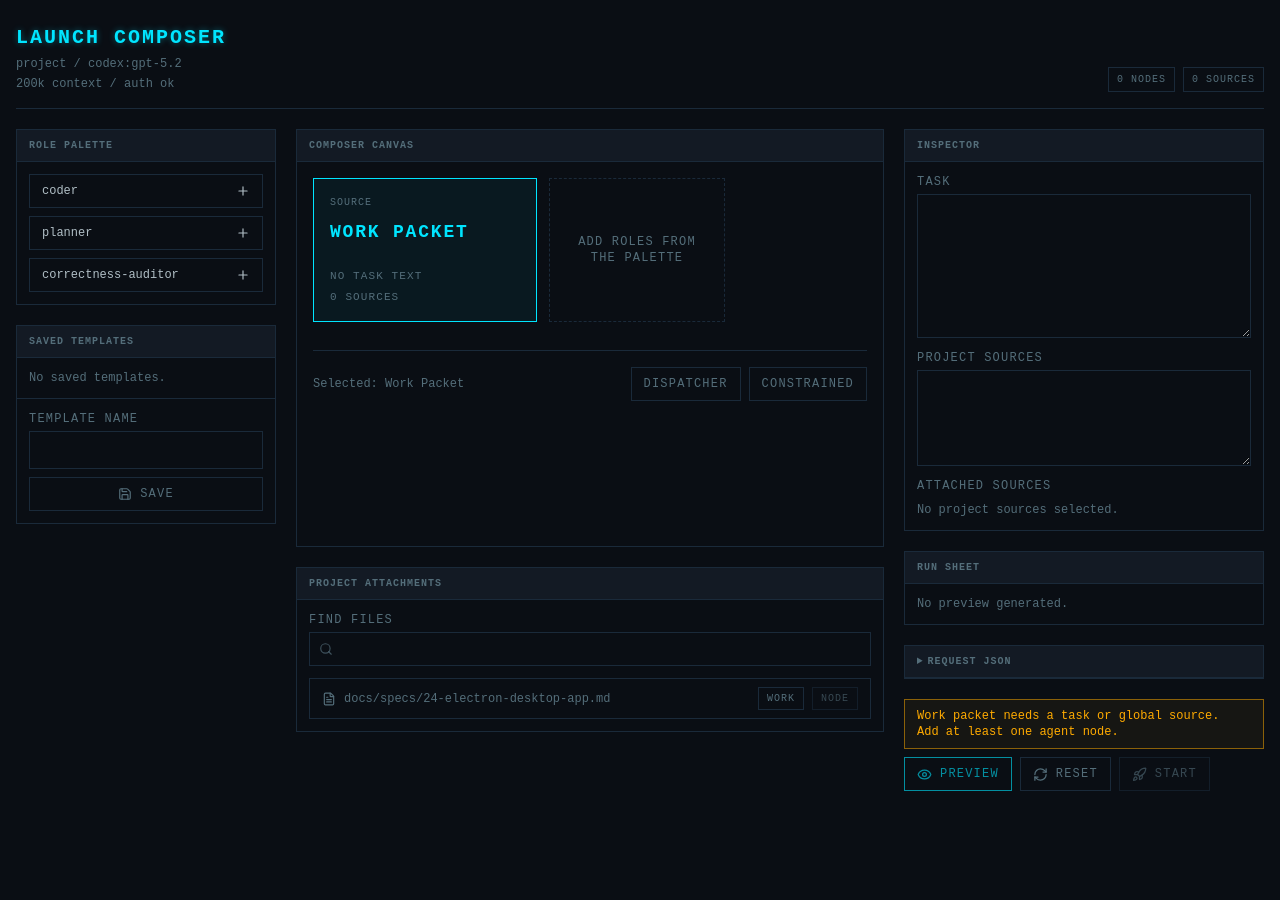
Scenario: LaunchPage › builds a one-step launch preview from the composer
Type "Ship launch workbench preview" into the text box labelled "Task" at [1084, 266], box [917,194,1251,338]
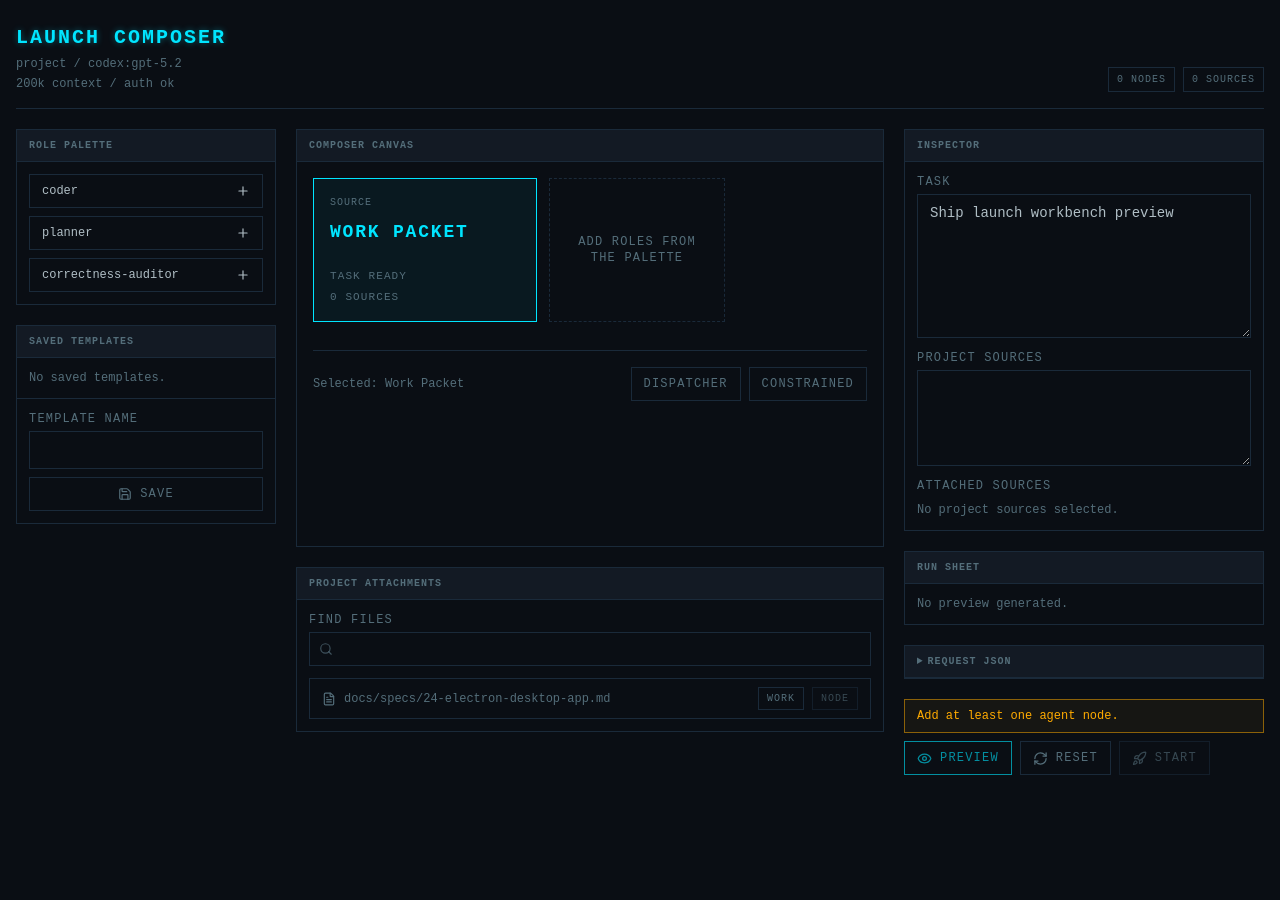
Click the button "coder" at [146, 191], box [29,174,263,208]
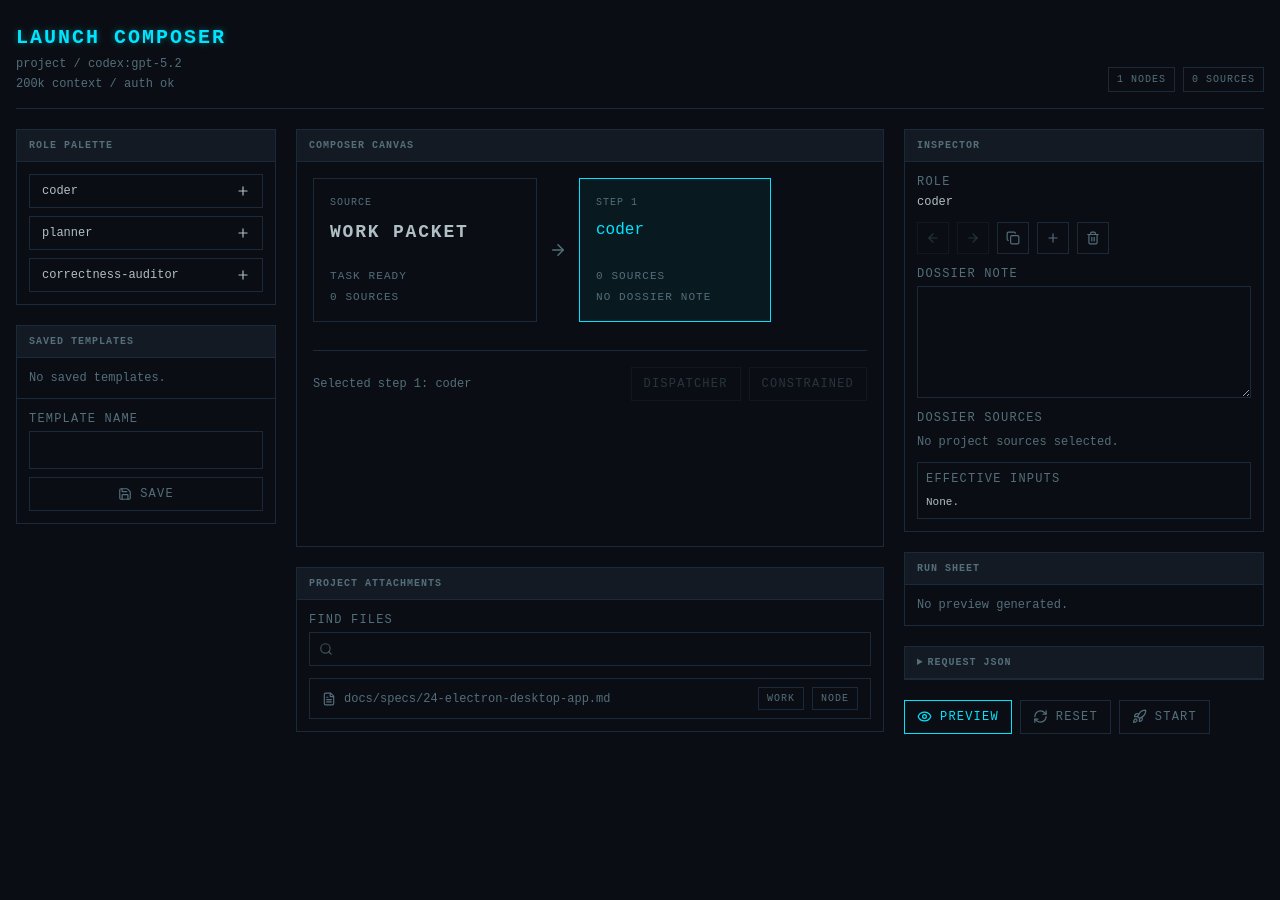
Click the button "Preview" at [958, 717], box [904,700,1012,734]
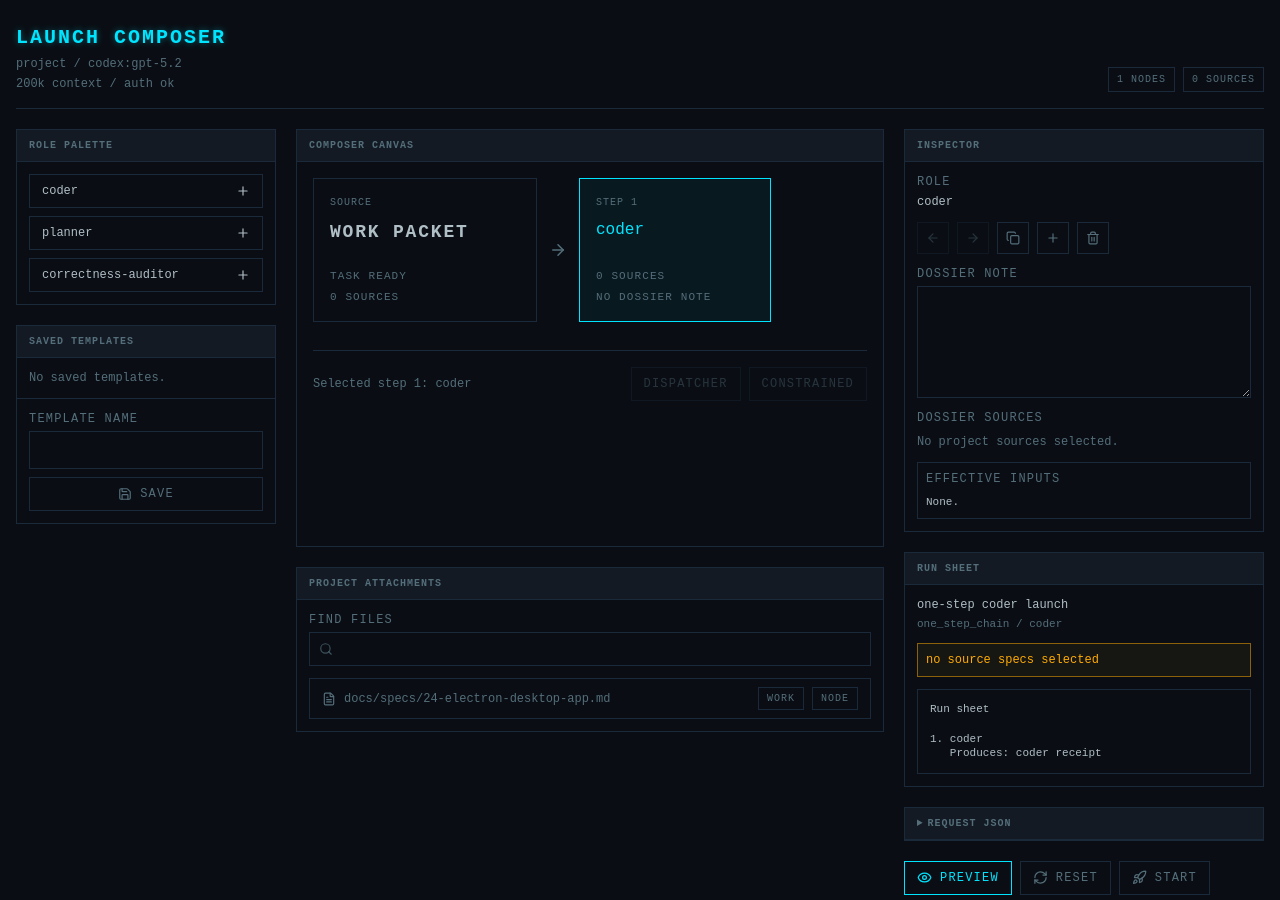
Result: the text "one-step coder launch" is shown at [917,598,1068,612]
Result: the text "Run sheet 1. coder Produces: coder receipt" is shown at [917,689,1251,774]
Result: the text "no source specs selected" is shown at [926,653,1099,667]
